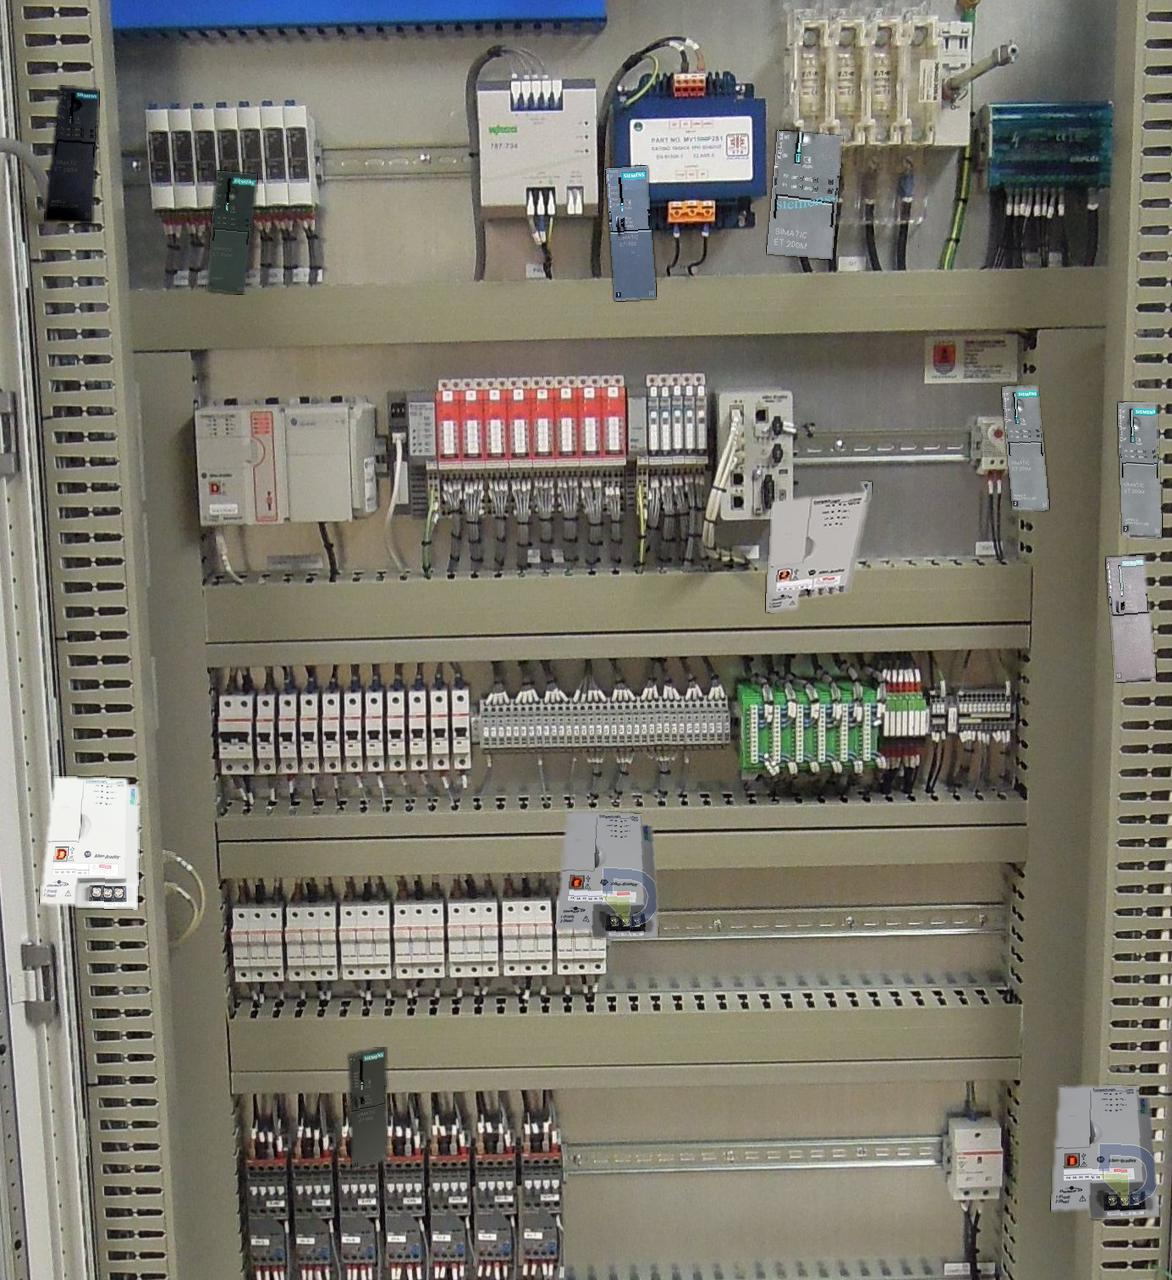AllenBradley: (1050, 1086, 1158, 1218), (766, 481, 871, 612), (40, 777, 139, 908), (555, 812, 657, 938)
Siemens: (606, 166, 656, 300), (1106, 555, 1155, 681), (348, 1047, 387, 1169)
